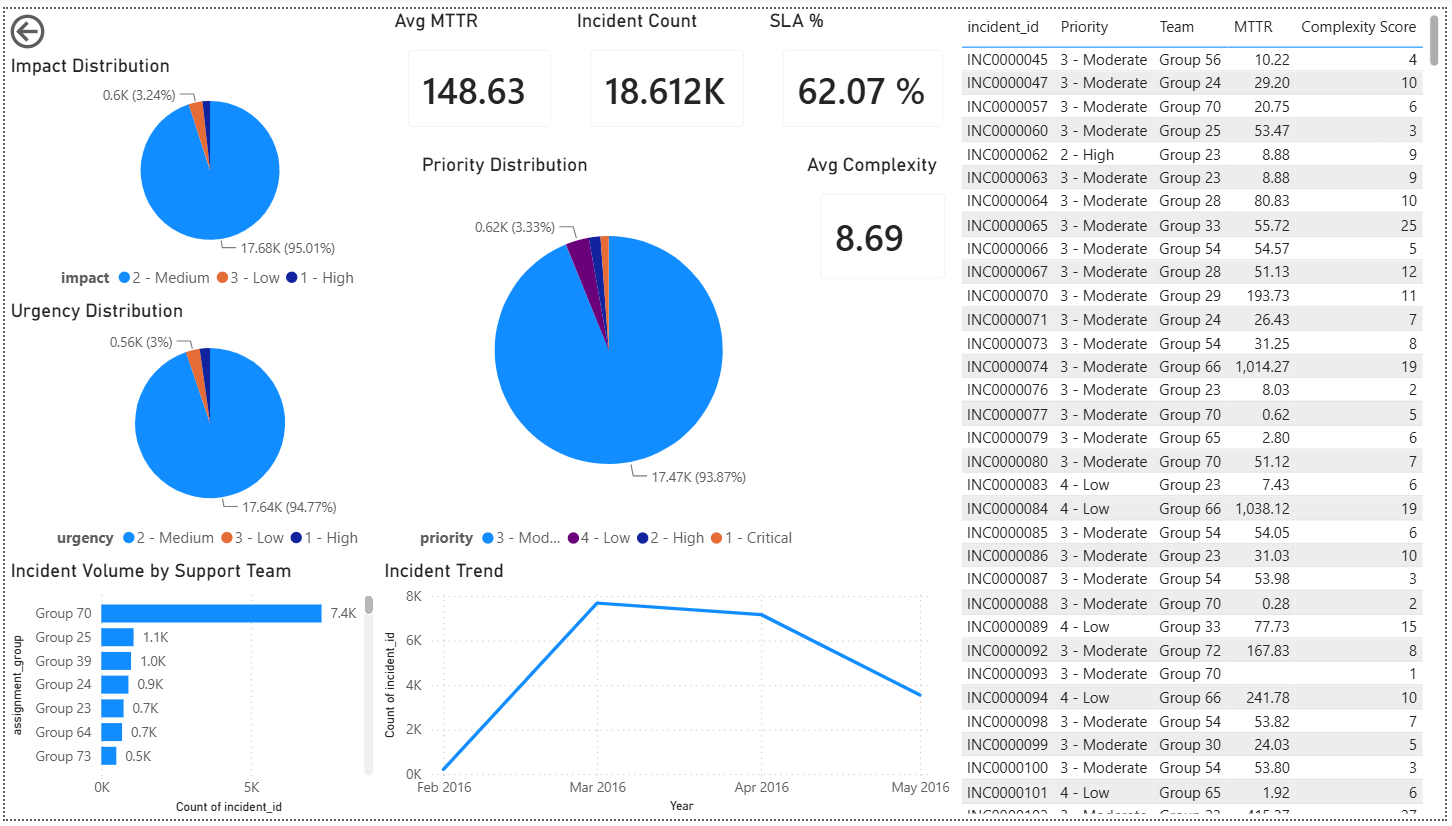

The page's visual inventory and layout, read from the dashboard file:
{"tool":"powerbi","page":{"name":"Category Analysis","canvas":[1280,720],"ordinal":5},"visuals":[{"type":"actionButton","box":[0,0,100,40],"z":0},{"type":"cardVisual","title":"Incident Count","fields":{"Data":["Count(incident_analytics fact_incidents.incident_id)"]},"box":[503.1,0,171.7,122.5],"z":1000},{"type":"cardVisual","title":"SLA %","fields":{"Data":["incident_analytics fact_incidents.SLA Compliance %"]},"box":[674.8,0,177.7,122.5],"z":3000},{"type":"cardVisual","title":"Avg Complexity","fields":{"Data":["Avg(incident_analytics fact_incidents.complexity_score)"]},"box":[707.5,127.5,145,130],"z":4000},{"type":"pieChart","title":"Priority Distribution","fields":{"Category":["incident_analytics dim_priority.priority"],"Y":["CountNonNull(incident_analytics fact_incidents.incident_id)"]},"box":[365,127.5,342.5,361.2],"z":5000},{"type":"lineChart","title":"Incident Trend","fields":{"Y":["CountNonNull(incident_analytics fact_incidents.incident_id)"],"Category":["incident_analytics dim_date.Month Year.Variation.Date Hierarchy.Year","incident_analytics dim_date.Month Year.Variation.Date Hierarchy.Quarter","incident_analytics dim_date.Month Year.Variation.Date Hierarchy.Month","incident_analytics dim_date.Month Year.Variation.Date Hierarchy.Day"]},"box":[332.2,488.9,512.2,231.1],"z":6000},{"type":"tableEx","fields":{"Values":["incident_analytics fact_incidents.incident_id","incident_analytics dim_priority.priority","incident_analytics dim_support_team.assignment_group","Avg(incident_analytics fact_incidents.mttr_adjusted)","Sum(incident_analytics fact_incidents.complexity_score)"]},"box":[844.4,0,435.6,720],"z":7000},{"type":"barChart","title":"Incident Volume by Support Team","fields":{"Category":["incident_analytics dim_support_team.assignment_group"],"Y":["CountNonNull(incident_analytics fact_incidents.incident_id)"]},"box":[0,488.8,332.5,231.2],"z":8000},{"type":"pieChart","title":"Urgency Distribution","fields":{"Category":["incident_analytics dim_priority.urgency"],"Y":["CountNonNull(incident_analytics fact_incidents.incident_id)"]},"box":[0,257.5,365,231.2],"z":9000},{"type":"pieChart","title":"Impact Distribution","fields":{"Category":["incident_analytics dim_priority.impact"],"Y":["CountNonNull(incident_analytics fact_incidents.incident_id)"]},"box":[0,40,365,217.5],"z":10000},{"type":"cardVisual","title":"Avg MTTR","fields":{"Data":["Avg(incident_analytics fact_incidents.mttr_adjusted)"]},"box":[341,0,162.1,122.5],"z":10500}]}

Visuals, with their boxes in screenshot pixels (x1, y1, x2, y2), scaled from the page's 1280x720 canvas onto the 1452x826 screenshot:
actionButton: left=0, top=0, right=113, bottom=46
"Incident Count" cardVisual: left=571, top=0, right=765, bottom=141
"SLA %" cardVisual: left=765, top=0, right=967, bottom=141
"Avg Complexity" cardVisual: left=803, top=146, right=967, bottom=295
"Priority Distribution" pieChart: left=414, top=146, right=803, bottom=561
"Incident Trend" lineChart: left=377, top=561, right=958, bottom=825
tableEx - incident_analytics fact_incidents.incident_id x incident_analytics dim_priority.priority: left=958, top=0, right=1451, bottom=825
"Incident Volume by Support Team" barChart: left=0, top=561, right=377, bottom=825
"Urgency Distribution" pieChart: left=0, top=295, right=414, bottom=561
"Impact Distribution" pieChart: left=0, top=46, right=414, bottom=295
"Avg MTTR" cardVisual: left=387, top=0, right=571, bottom=141
